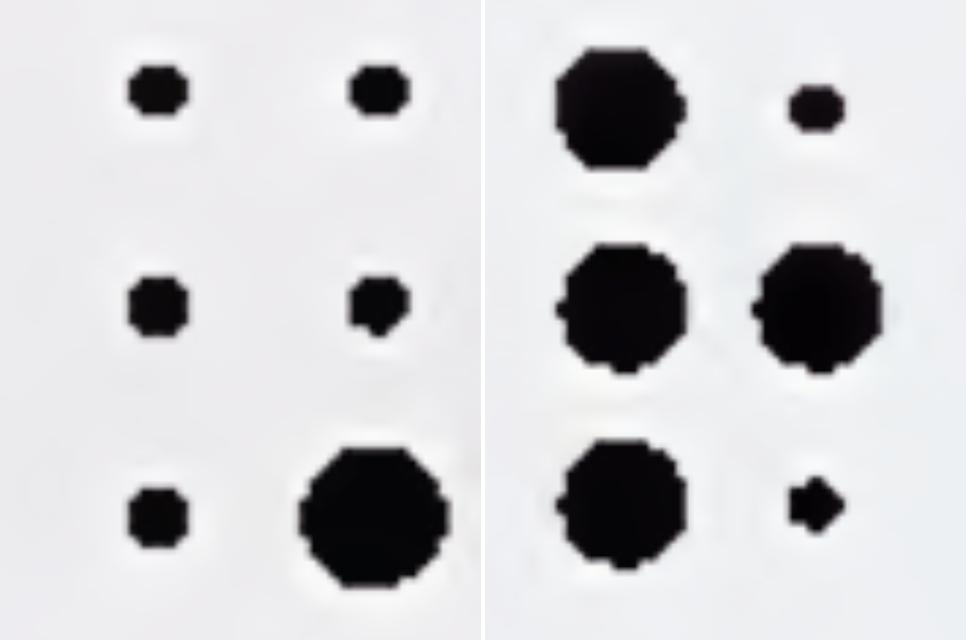R: (553, 46, 884, 571)
capital: (127, 63, 450, 590)
